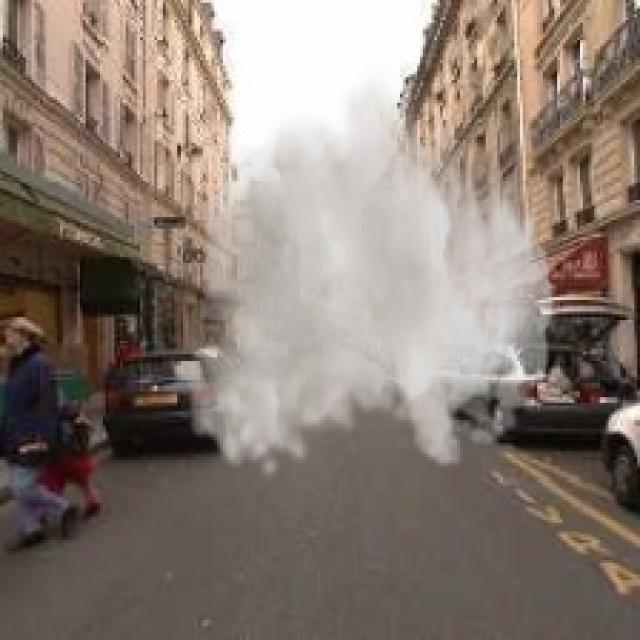smoke: (186, 60, 554, 480)
